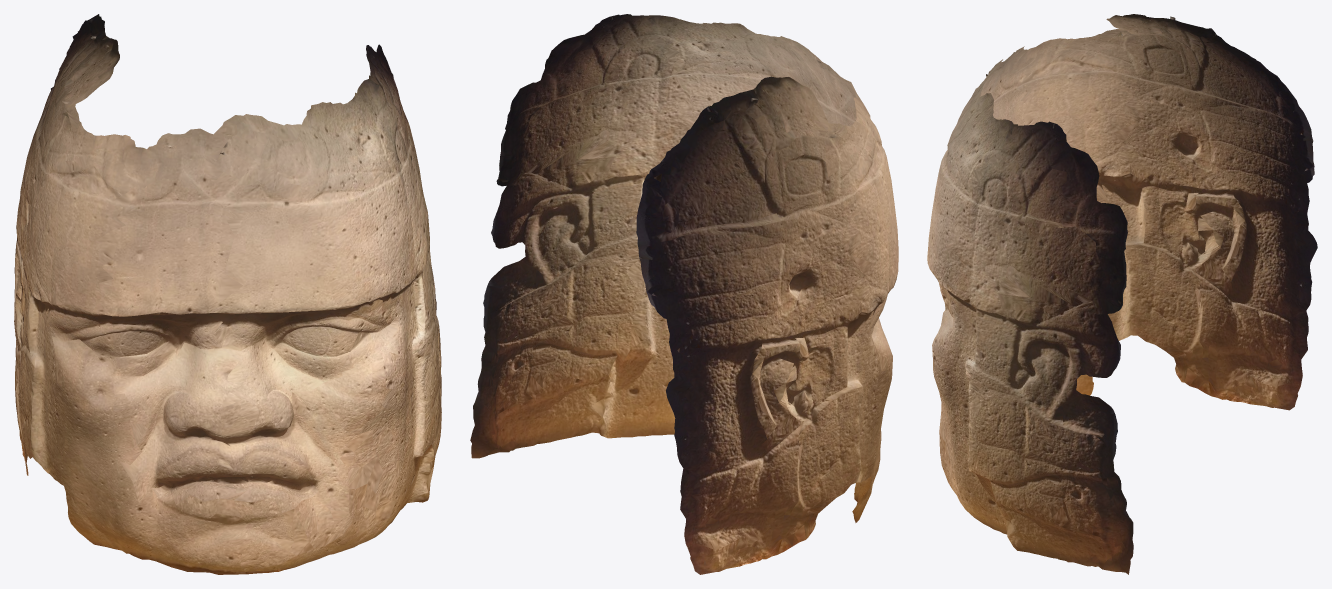
Rendered from olmec_head.gltf.
3 renders of one model, left to right at view 1: azimuth 30°, elevation 25°; view 2: azimuth 150°, elevation 25°; view 3: azimuth 270°, elevation 25°, orthographic. The views are drawn at different scales.
Parts seen in each view (by area): view 1: olmec_head; view 2: olmec_head; view 3: olmec_head.
Part boxes in pixels (box(x1,y1,x2,y2)): olmec_head: box(14, 14, 441, 574); olmec_head: box(470, 14, 898, 574); olmec_head: box(927, 14, 1317, 574).
Size of the model in its own units: 2.42 by 2.7 by 2.23.
Materials: 1 (1 with a texture image).
